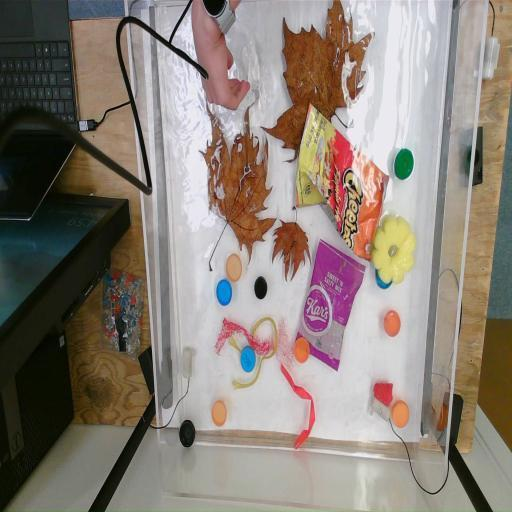Bottle Cap: (394, 148, 414, 180), (391, 400, 410, 428), (216, 278, 232, 309), (384, 310, 401, 338), (240, 346, 257, 373), (226, 254, 242, 282), (180, 420, 196, 448), (211, 400, 227, 427), (294, 336, 309, 364), (254, 275, 268, 300), (375, 269, 392, 289)
Cone Cap: (372, 382, 394, 408)
Leaf: (266, 0, 374, 165), (200, 103, 278, 275), (272, 208, 312, 282)
Netting: (216, 312, 275, 368), (270, 320, 296, 374)
Plastic Bag: (295, 99, 391, 266), (296, 237, 366, 373)
Plastic Strand: (228, 318, 278, 390), (281, 364, 316, 450)
Sponge: (372, 212, 418, 284)
